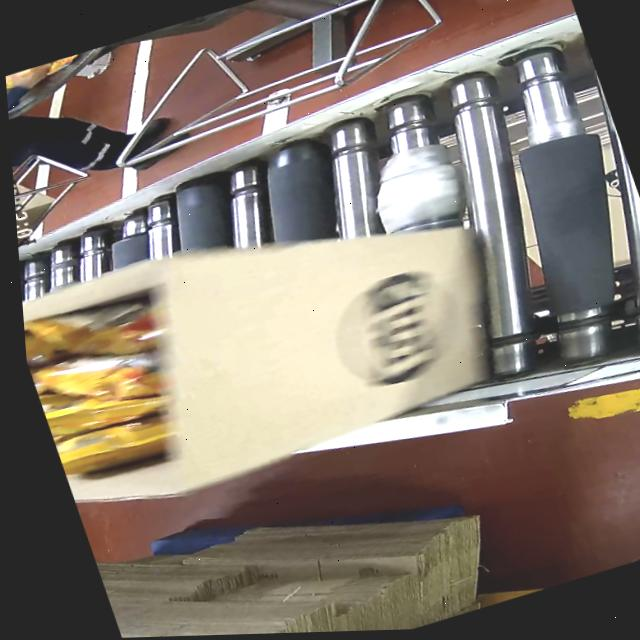FRENCH_CHEESE: (22, 290, 193, 486)
